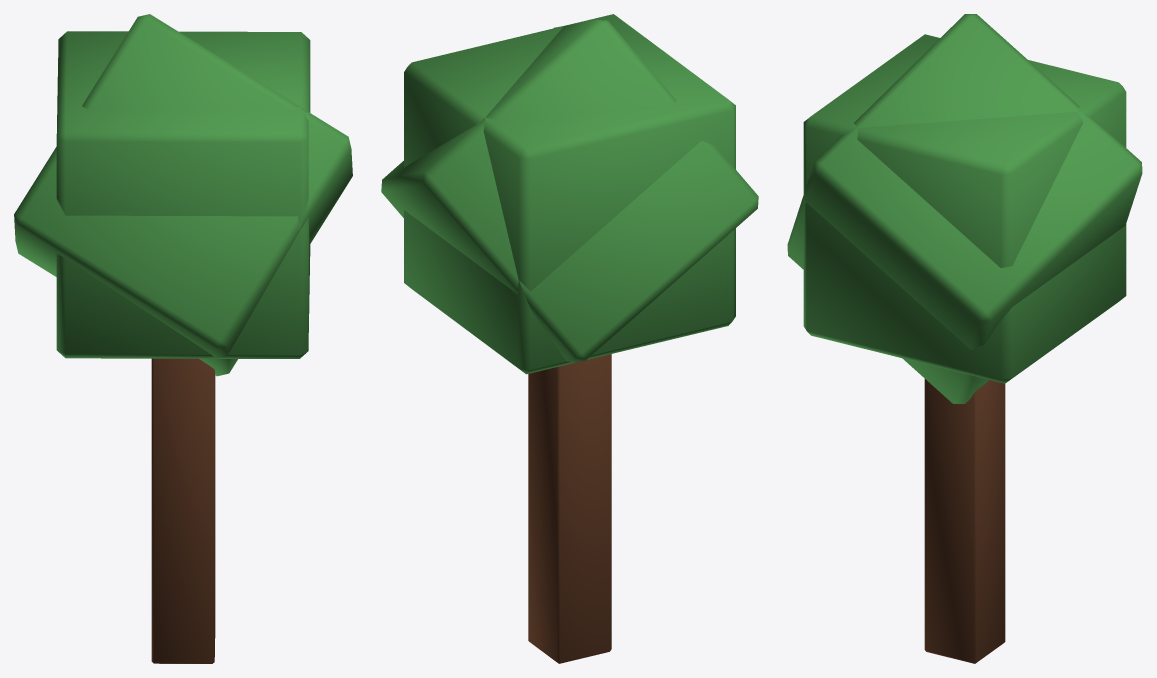
File: Nature_ClassicTree_CS.glb
3 views of the same model, side by side, from view 1: azimuth 30°, elevation 25°; view 2: azimuth 150°, elevation 25°; view 3: azimuth 270°, elevation 25° (orthographic). The views are drawn at different scales.
Visible parts, largest first — view 1: Nature_ClassicTree_CS; view 2: Nature_ClassicTree_CS; view 3: Nature_ClassicTree_CS.
Boxes of the visible parts, bbox=[...] form: Nature_ClassicTree_CS: bbox=[14, 14, 352, 663]; Nature_ClassicTree_CS: bbox=[381, 14, 758, 663]; Nature_ClassicTree_CS: bbox=[787, 14, 1142, 663].
Size of the model in its own units: 3.66 by 6.3 by 3.29.
